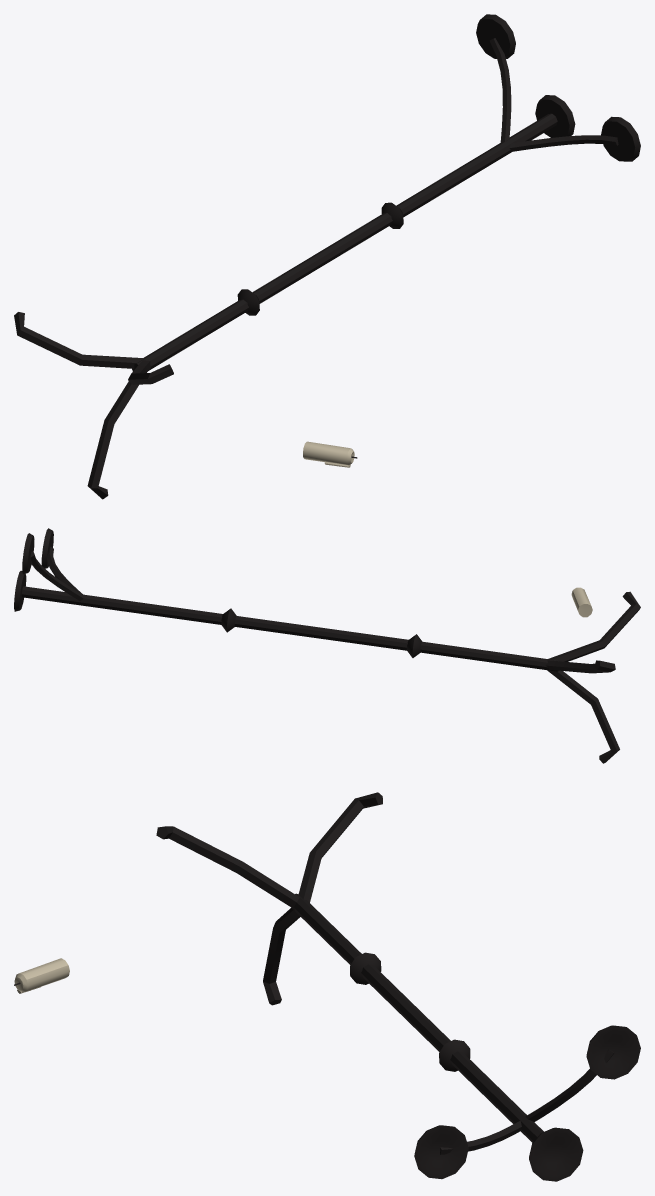
File: kerzenstaender_kaputt.glb
3 views of the same model, one above another, from view 1: azimuth 30°, elevation 25°; view 2: azimuth 150°, elevation 25°; view 3: azimuth 270°, elevation 25° (orthographic). The views are drawn at different scales.
Visible parts, largest first — view 1: kerzenstaender_kaputt; view 2: kerzenstaender_kaputt; view 3: kerzenstaender_kaputt.
Part boxes in pixels (x1,y1,x2,y2): kerzenstaender_kaputt: (14,14,640,499); kerzenstaender_kaputt: (14,528,640,763); kerzenstaender_kaputt: (14,792,640,1181).
Bounding box in the file's own units: 1.5 × 0.5449 × 1.08.
